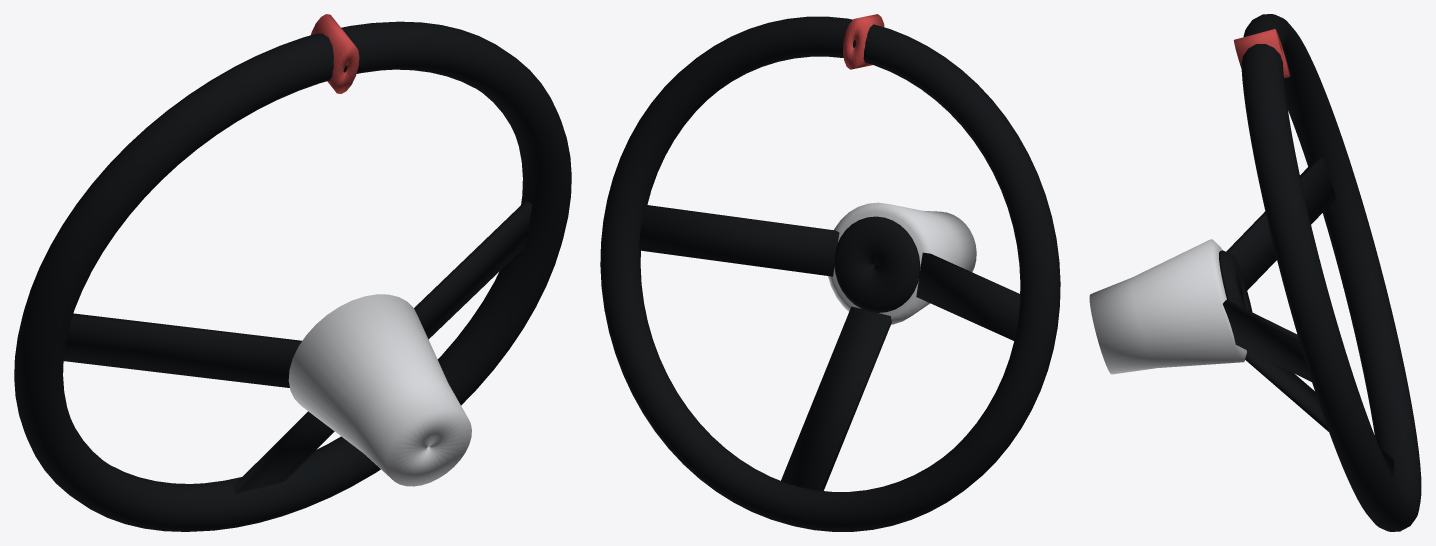
File: SW02_deep_dish_suede_wheel.glb
The picture shows the model from 3 angles, left to right: view 1: azimuth 30°, elevation 25°; view 2: azimuth 150°, elevation 25°; view 3: azimuth 270°, elevation 25°; orthographic projection. The views are drawn at different scales.
Visible parts, largest first — view 1: MOD_ND_SW02_rim, MOD_ND_SW02_boss, MOD_ND_SW02_spoke1, MOD_ND_SW02_spoke0, MOD_ND_SW02_spoke2, MOD_ND_SW02_marker; view 2: MOD_ND_SW02_rim, MOD_ND_SW02_spoke0, MOD_ND_SW02_spoke2, MOD_ND_SW02_horn, MOD_ND_SW02_boss, MOD_ND_SW02_spoke1, MOD_ND_SW02_marker; view 3: MOD_ND_SW02_rim, MOD_ND_SW02_boss, MOD_ND_SW02_spoke1, MOD_ND_SW02_spoke0, MOD_ND_SW02_spoke2, MOD_ND_SW02_horn, MOD_ND_SW02_marker.
Part boxes in pixels (x1,y1,x2,y2): MOD_ND_SW02_rim: (14, 21, 571, 531); MOD_ND_SW02_boss: (288, 294, 471, 486); MOD_ND_SW02_spoke1: (63, 313, 301, 387); MOD_ND_SW02_spoke0: (414, 200, 532, 339); MOD_ND_SW02_spoke2: (232, 411, 334, 493); MOD_ND_SW02_marker: (311, 14, 359, 93); MOD_ND_SW02_rim: (600, 16, 1060, 531); MOD_ND_SW02_spoke0: (639, 205, 839, 276); MOD_ND_SW02_spoke2: (781, 306, 891, 490); MOD_ND_SW02_horn: (834, 216, 920, 312); MOD_ND_SW02_boss: (828, 202, 976, 324); MOD_ND_SW02_spoke1: (916, 252, 1019, 340); MOD_ND_SW02_marker: (843, 14, 884, 69); MOD_ND_SW02_rim: (1241, 14, 1421, 531); MOD_ND_SW02_boss: (1089, 239, 1246, 374); MOD_ND_SW02_spoke1: (1226, 158, 1335, 290); MOD_ND_SW02_spoke0: (1223, 300, 1311, 381); MOD_ND_SW02_spoke2: (1245, 350, 1394, 477); MOD_ND_SW02_horn: (1219, 250, 1252, 311); MOD_ND_SW02_marker: (1233, 29, 1290, 78).
Size of the model in its own units: 0.386 by 0.3798 by 0.2394.
